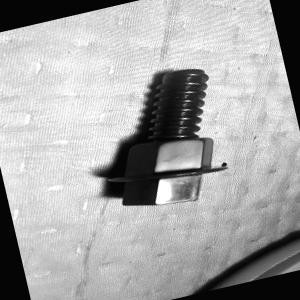parafuso: (85, 60, 236, 218)
